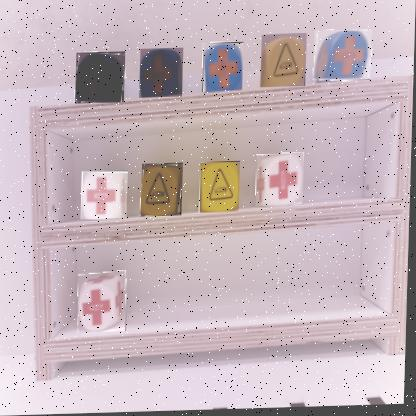CubeBlue: (315, 33, 374, 86), (77, 53, 128, 106), (141, 50, 186, 101), (204, 44, 246, 95)
CubeRed: (80, 273, 132, 335), (258, 156, 307, 210), (83, 172, 131, 222)
CubeYellow: (262, 36, 309, 91), (143, 165, 186, 220), (201, 163, 243, 216)
